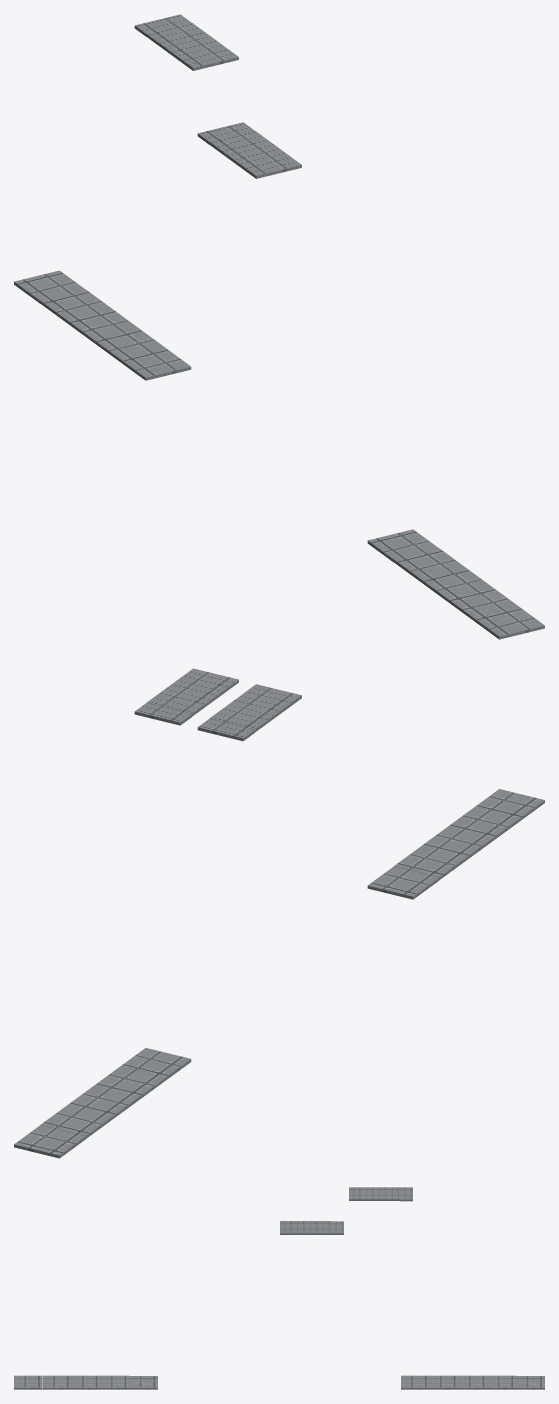
The model's file is Stage4_penetrate.fbx.
3 views of the same model, one above another, from view 1: azimuth 30°, elevation 25°; view 2: azimuth 150°, elevation 25°; view 3: azimuth 270°, elevation 25° (orthographic). The views are drawn at different scales.
Parts seen in each view (by area): view 1: floor_def165, floor_def166, floor_def167, floor_def168; view 2: floor_def166, floor_def165, floor_def168, floor_def167; view 3: floor_def166, floor_def165, floor_def167, floor_def168.
Boxes of the visible parts, bbox=[...] form: floor_def165: bbox=[367, 529, 544, 639]; floor_def166: bbox=[14, 270, 191, 380]; floor_def167: bbox=[134, 14, 238, 70]; floor_def168: bbox=[197, 122, 301, 178]; floor_def166: bbox=[14, 1048, 191, 1158]; floor_def165: bbox=[367, 789, 544, 899]; floor_def168: bbox=[197, 684, 301, 741]; floor_def167: bbox=[134, 668, 238, 725]; floor_def166: bbox=[401, 1375, 544, 1389]; floor_def165: bbox=[14, 1375, 157, 1389]; floor_def167: bbox=[349, 1187, 412, 1201]; floor_def168: bbox=[280, 1221, 343, 1234].
Size of the model in its own units: 140 by 1022 by 2585.
Materials: 1 (1 with a texture image).
